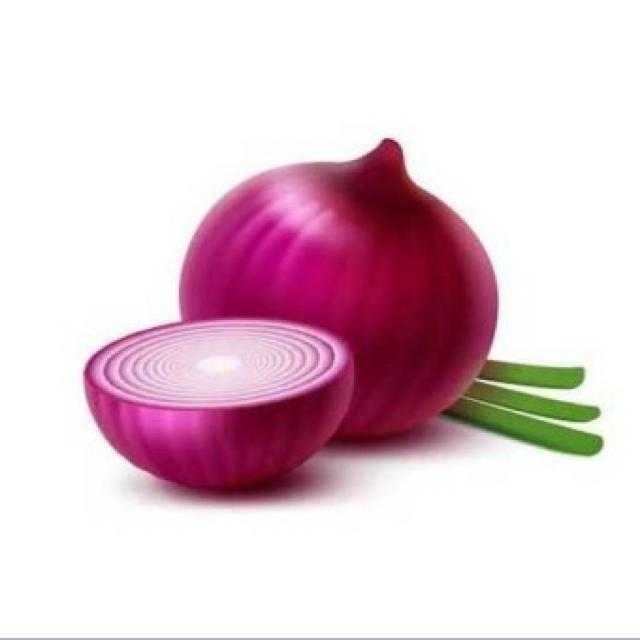Onion: (202, 130, 530, 448), (65, 307, 348, 482)
